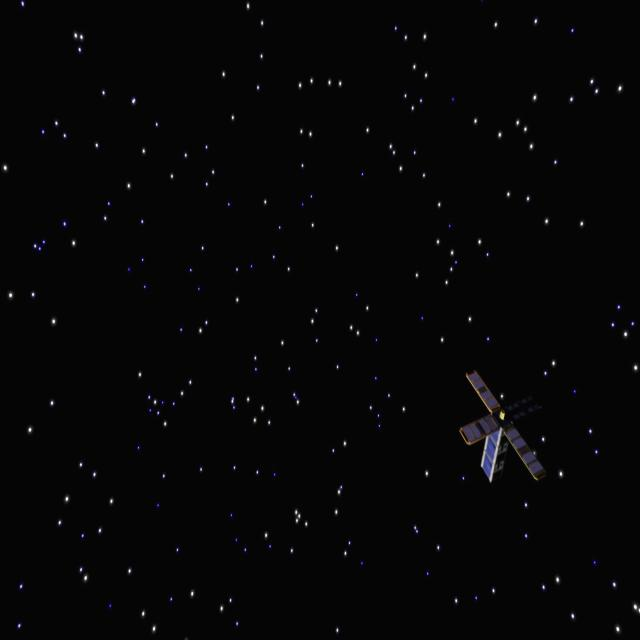satellite: (454, 363, 554, 500)
